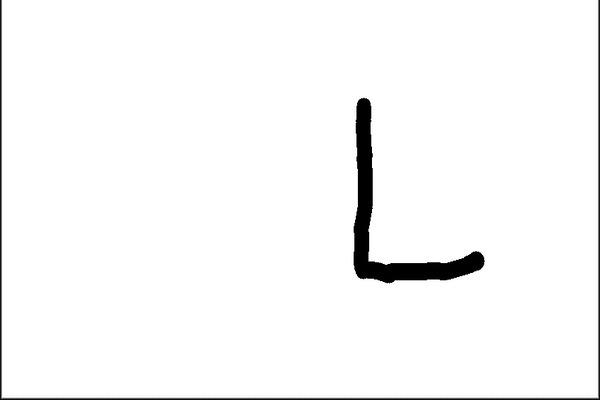L: (344, 88, 489, 287)
